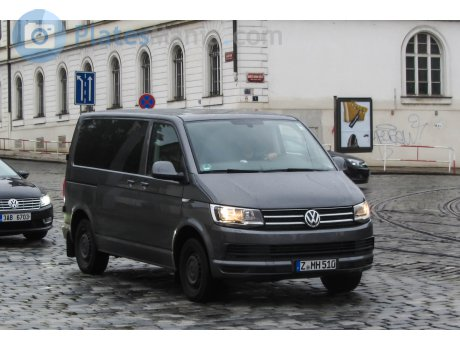License Plates: (300, 258, 335, 265)
